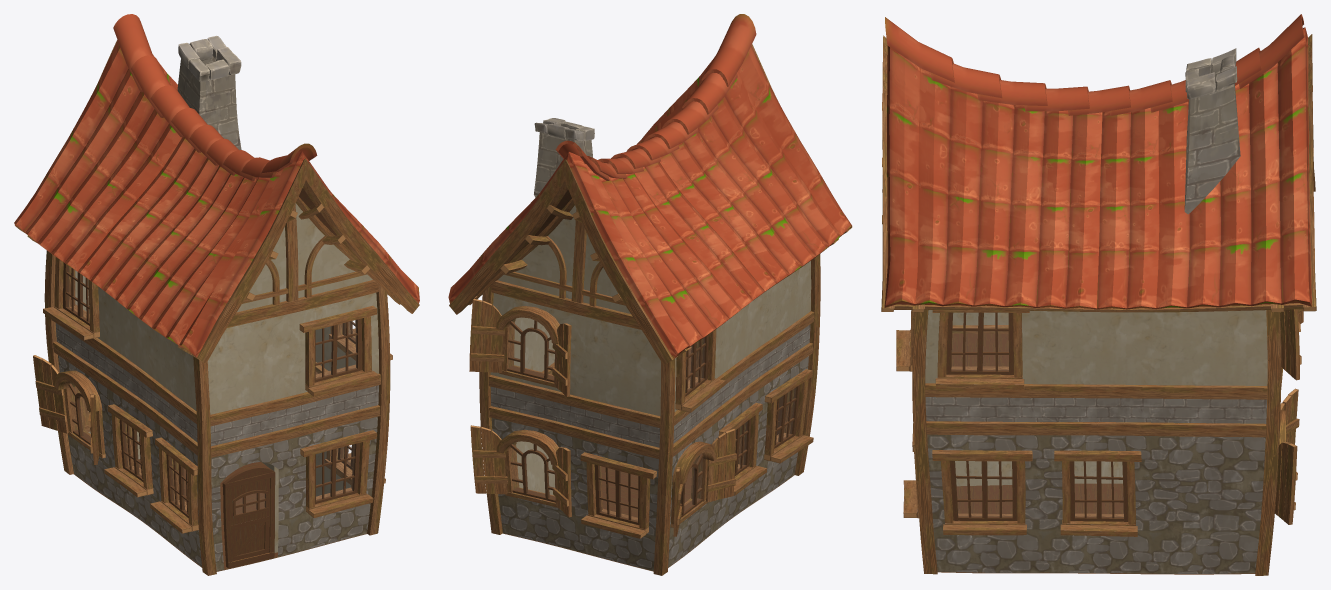
3 views of the same model, side by side, from view 1: azimuth 30°, elevation 25°; view 2: azimuth 150°, elevation 25°; view 3: azimuth 270°, elevation 25° (orthographic). The views are drawn at different scales.
Parts seen in each view (by area): view 1: H02; view 2: H02; view 3: H02.
Part boxes in pixels (x1,y1,x2,y2): H02: (14, 14, 419, 575); H02: (448, 14, 852, 575); H02: (881, 14, 1316, 575).
Size of the model in its own units: 6.04 by 10.24 by 7.94.
36 materials, 33 textured.
